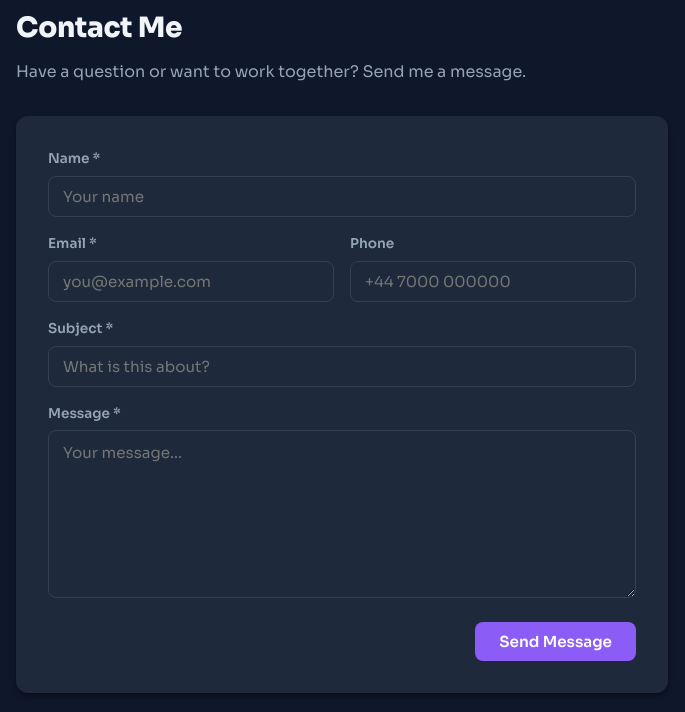
ContactForm › submits form and shows success message
Type "Jane Doe" into the field with placeholder "Your name". click: (342, 197)
box: x1=48 y1=176 x2=636 y2=217
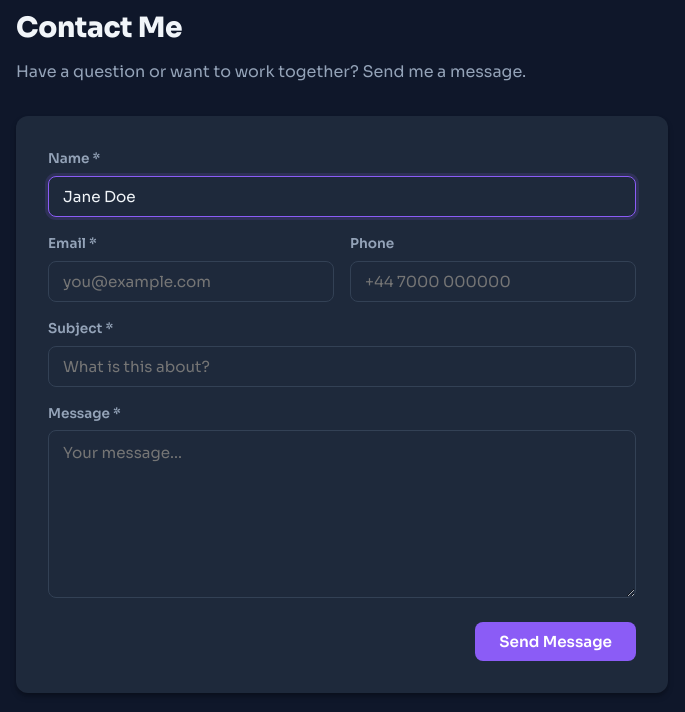
Type "jane@example.com" into the field with placeholder "you@example.com". click: (191, 281)
box: x1=48 y1=261 x2=334 y2=302
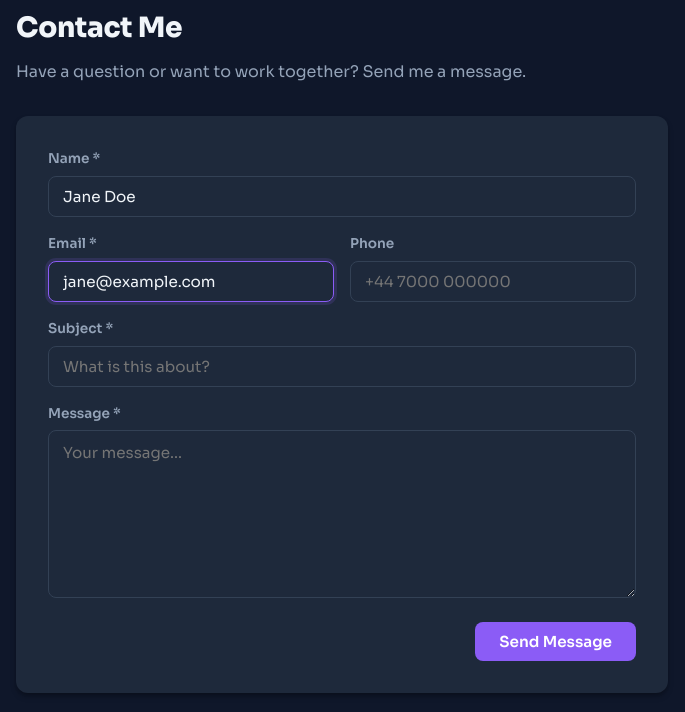
Type "Hello" into the field with placeholder "What is this about?". click: (342, 366)
box: x1=48 y1=346 x2=636 y2=387
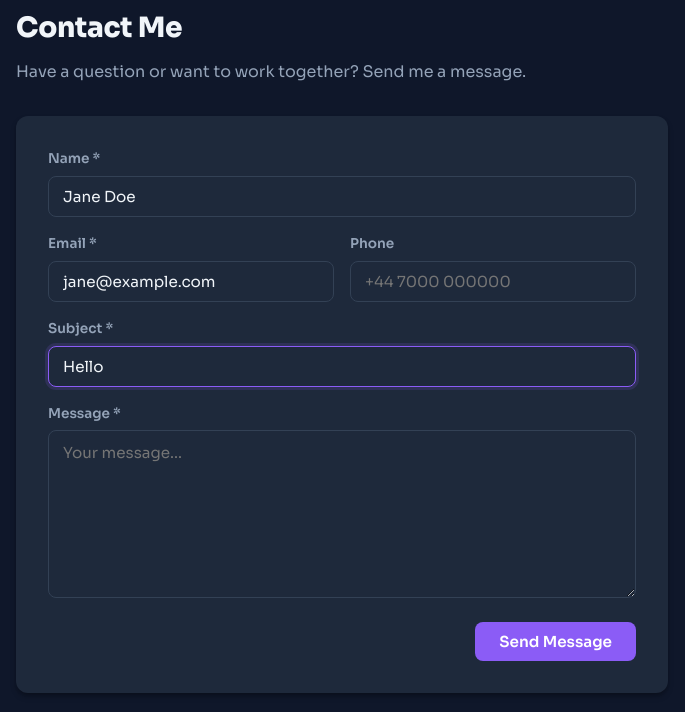
Type "Test message" into the text box with placeholder "Your message...". click: (342, 514)
box: x1=48 y1=430 x2=636 y2=598
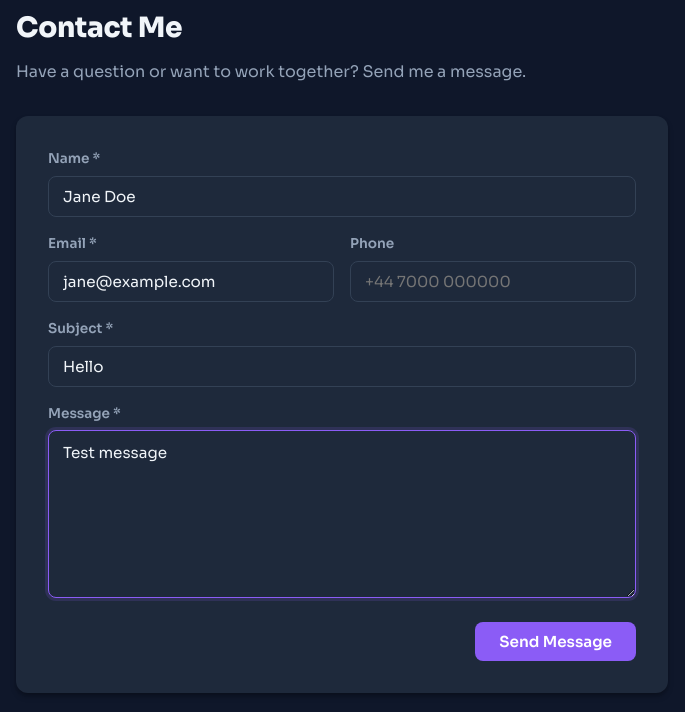
Click the button "Send Message". click: (556, 642)
box: x1=475 y1=622 x2=636 y2=661
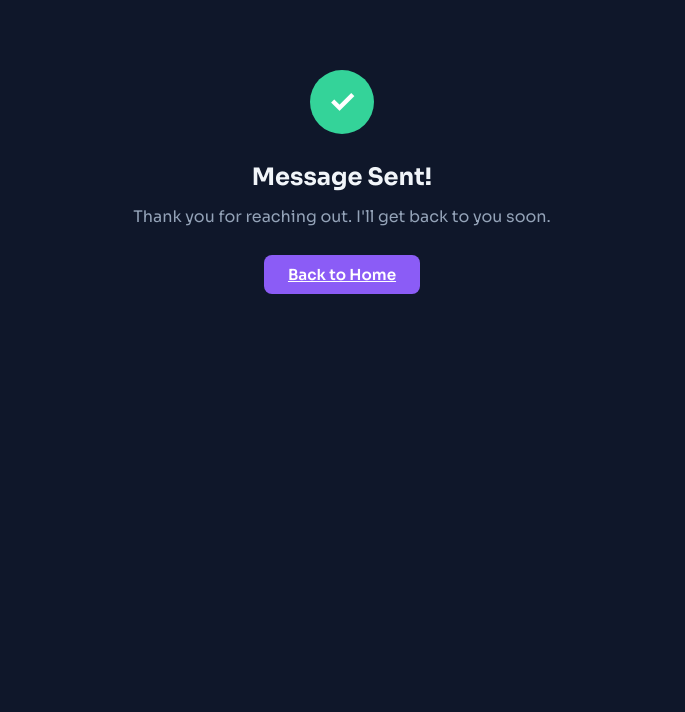
Check: the heading "Message Sent!" is shown, box x1=252 y1=162 x2=432 y2=192
